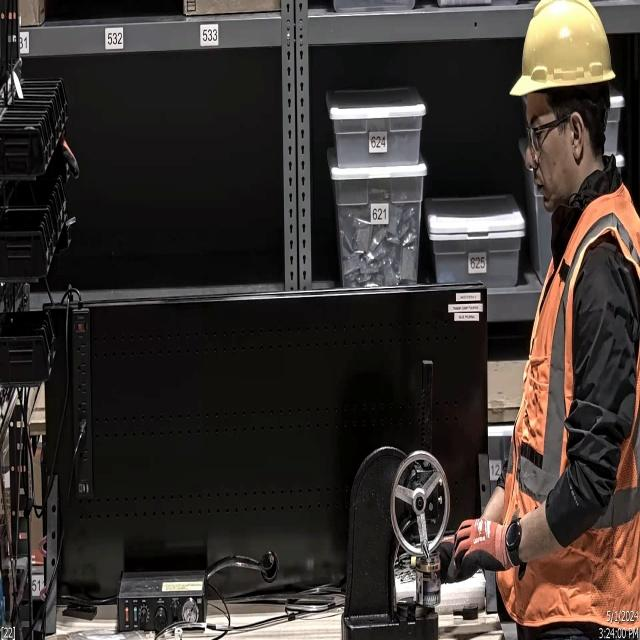gloves: (450, 518, 512, 581)
